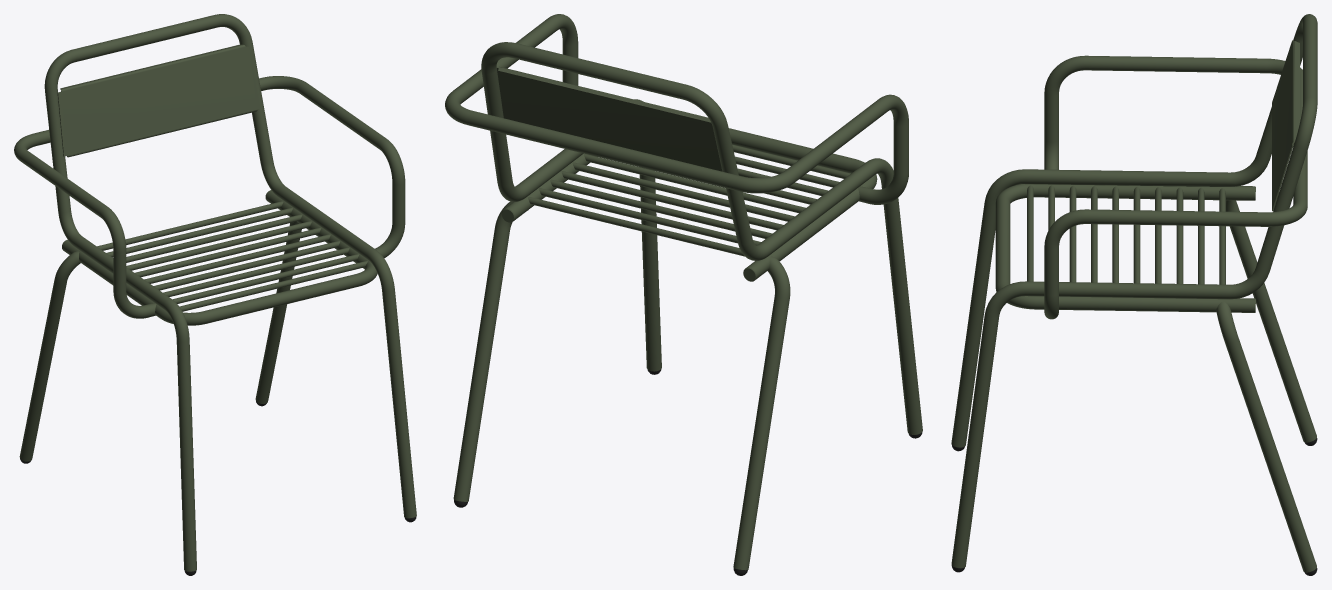
Rendered from duga-m.glb.
The picture shows the model from 3 angles, left to right: view 1: azimuth 30°, elevation 25°; view 2: azimuth 150°, elevation 25°; view 3: azimuth 270°, elevation 25°; orthographic projection. The views are drawn at different scales.
Visible parts, largest first — view 1: duga_armrests_black; view 2: duga_armrests_black; view 3: duga_armrests_black.
Part boxes in pixels (x1,y1,x2,y2): duga_armrests_black: [14, 14, 416, 575]; duga_armrests_black: [445, 14, 922, 575]; duga_armrests_black: [951, 14, 1317, 575].
Bounding box in the file's own units: 0.5667 × 0.7503 × 0.5489.
